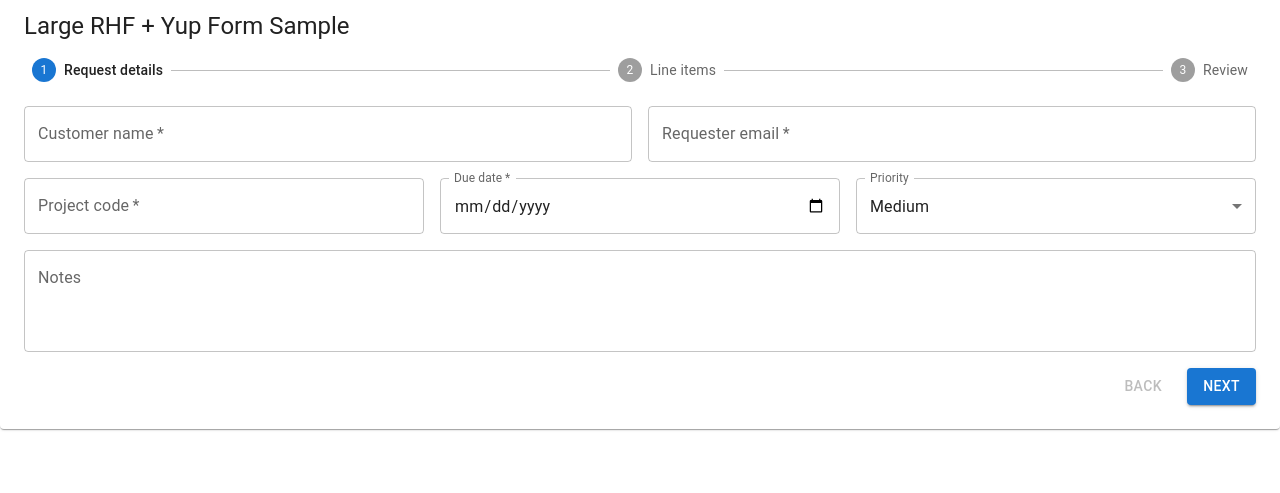
Scenario: LargeRHFTableSample › blocks navigation to step 2 when step 1 is invalid
The width and height of the screenshot is (1280, 493).
Click the button "Next": (1222, 386) [1187,368,1256,404]
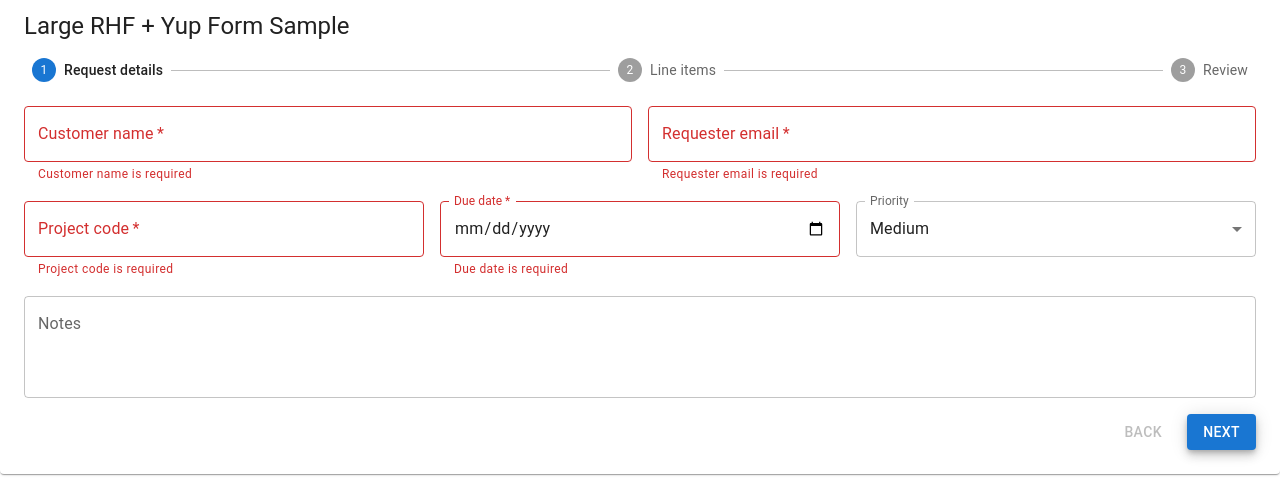
Expected: the text "Customer name is required" is shown, [38,167,192,181]
